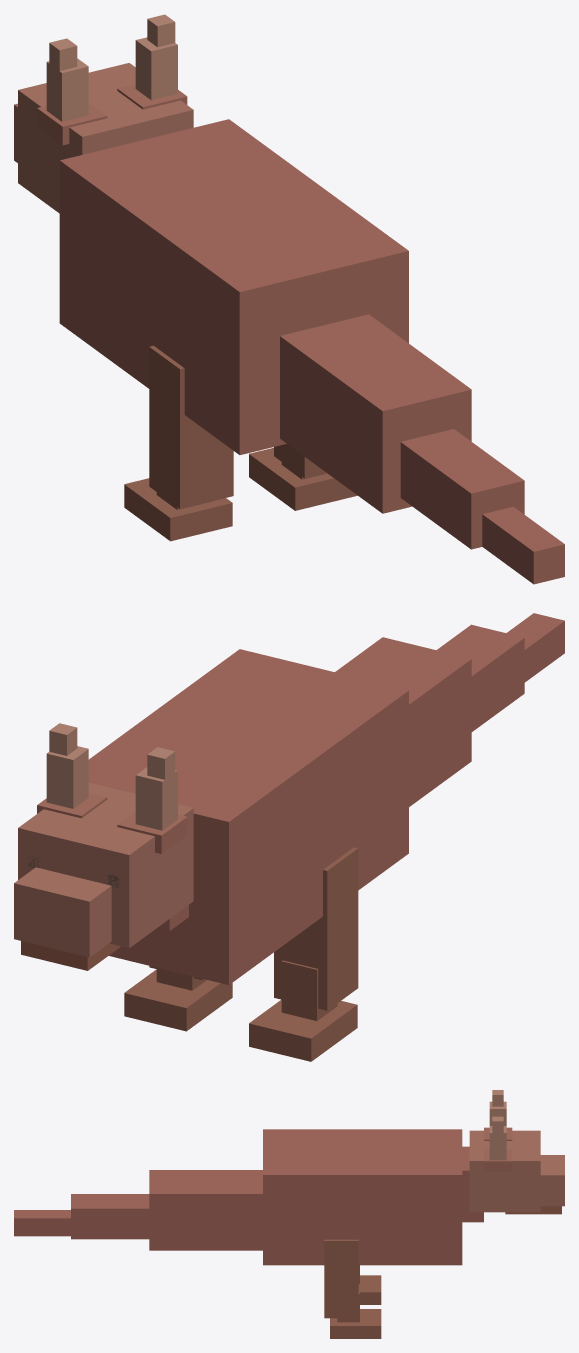
Rendered from carnotaurus.glb.
3 views of the same model, one above another, from view 1: azimuth 30°, elevation 25°; view 2: azimuth 150°, elevation 25°; view 3: azimuth 270°, elevation 25° (orthographic). The views are drawn at different scales.
Visible parts, largest first — view 1: Dinosaur; view 2: Dinosaur; view 3: Dinosaur.
Boxes of the visible parts, x1,y1,x2,y2 form: Dinosaur: (14, 14, 564, 584); Dinosaur: (14, 613, 564, 1061); Dinosaur: (14, 1090, 564, 1338).
Size of the model in its own units: 0.84 by 1.61 by 3.87.
